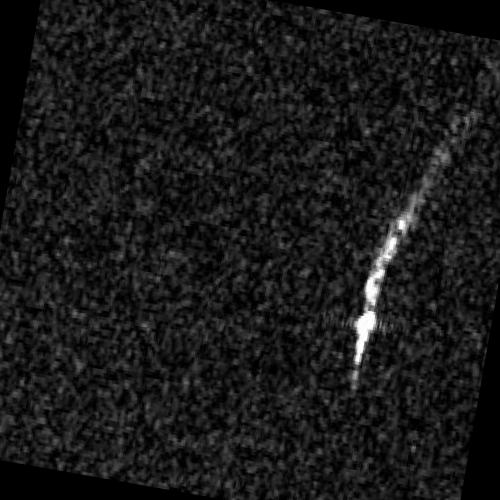ship: (353, 255, 386, 367)
